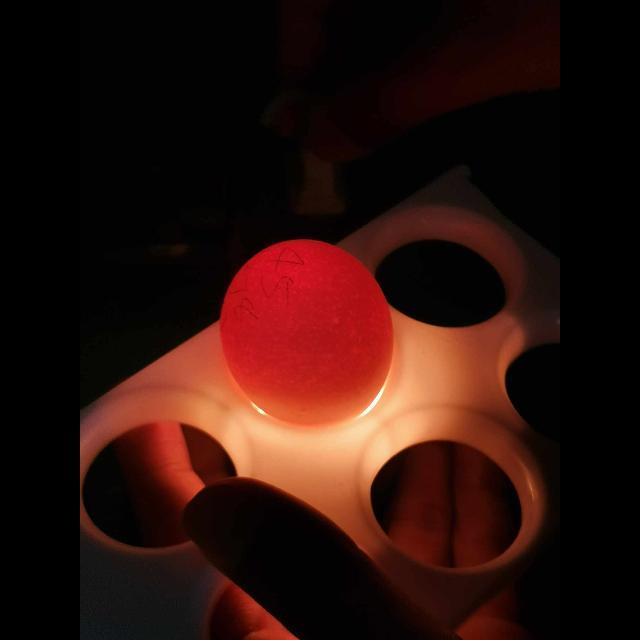Infertile: (223, 236, 391, 424)
